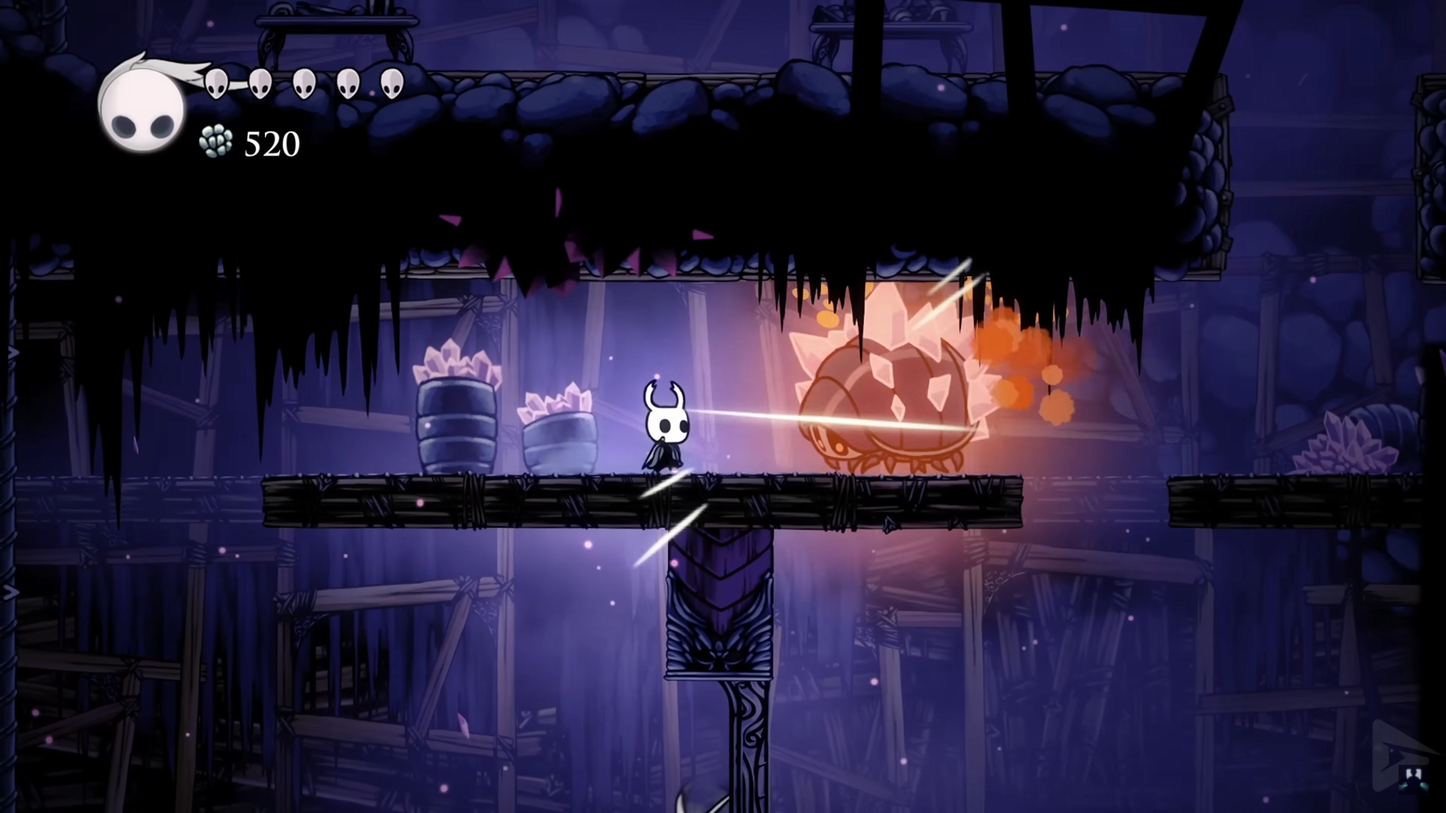HK: (638, 378, 698, 475)
